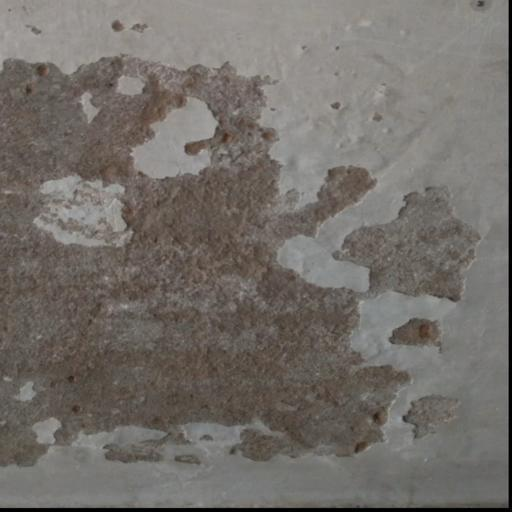peeling: (0, 36, 489, 475)
